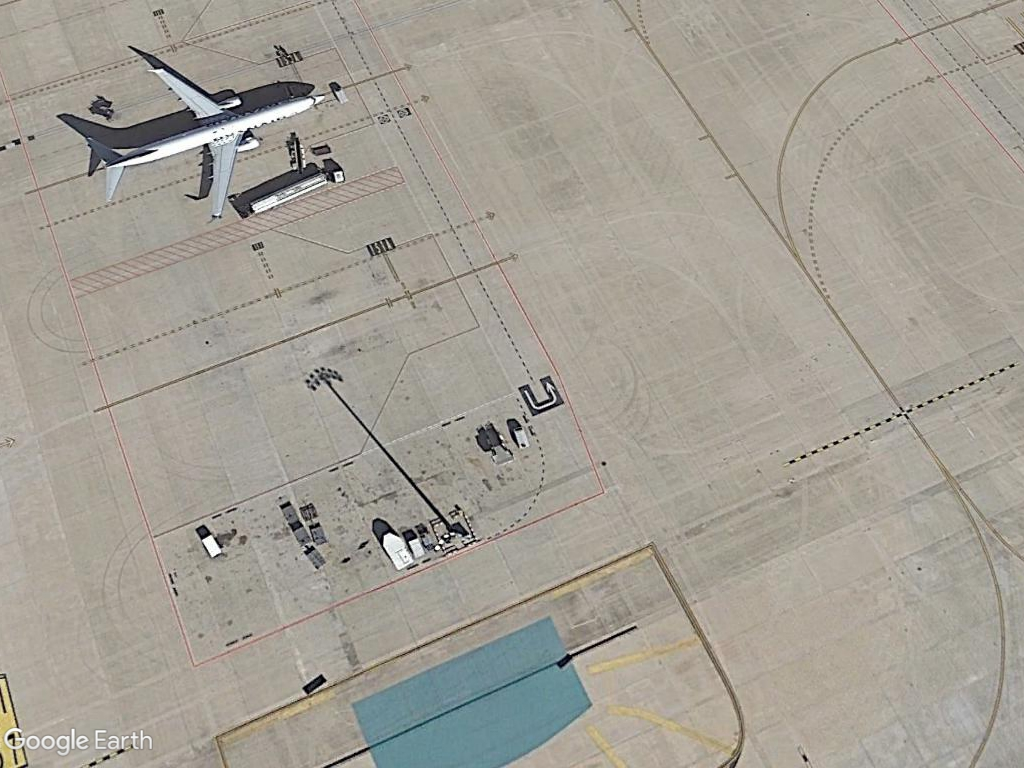airliner: (80, 64, 328, 227)
